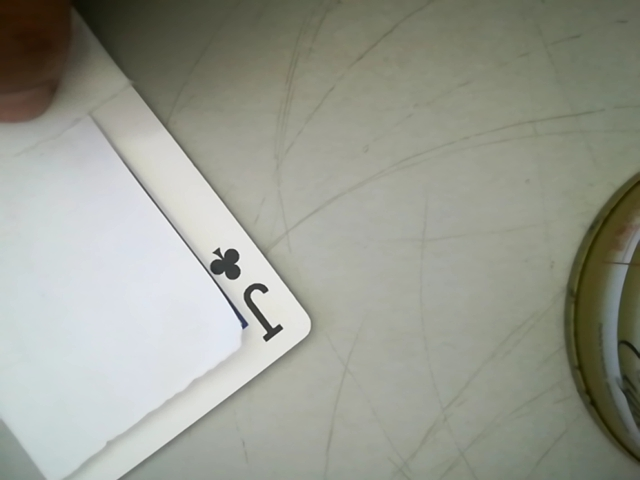mh j: (178, 222, 292, 371)
